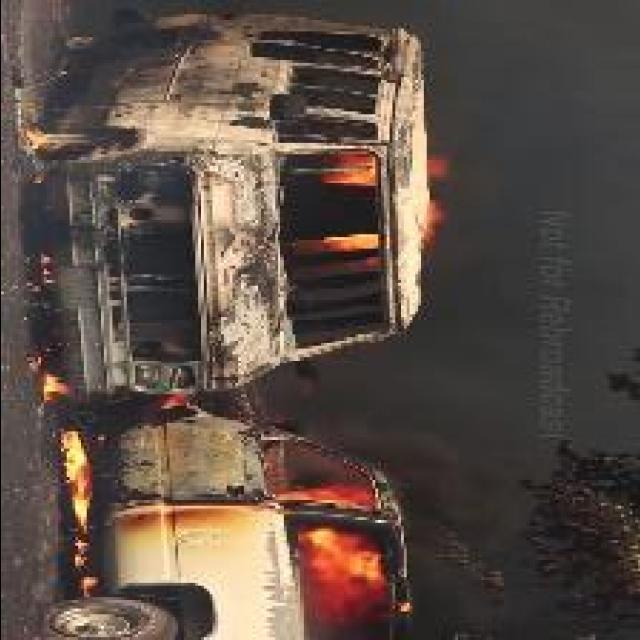Fire: (301, 532, 393, 628), (328, 147, 452, 184), (56, 433, 90, 536), (272, 487, 378, 504), (326, 234, 380, 257), (38, 374, 70, 406)
